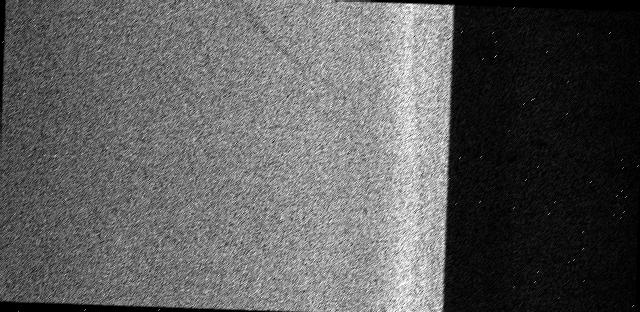water_spot: (216, 0, 347, 101)
